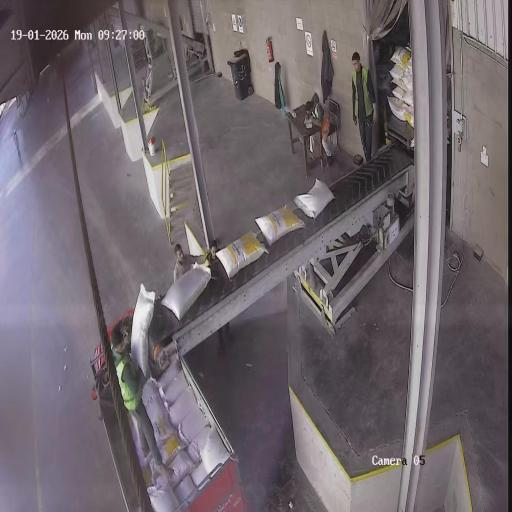c-belt-sack-count: (162, 263, 211, 320), (217, 232, 267, 280), (255, 205, 305, 246), (294, 179, 334, 219)
